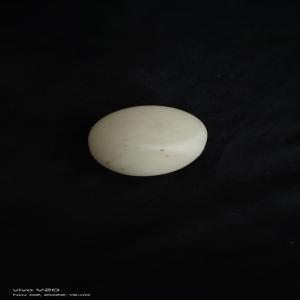Egg: (86, 104, 208, 178)
